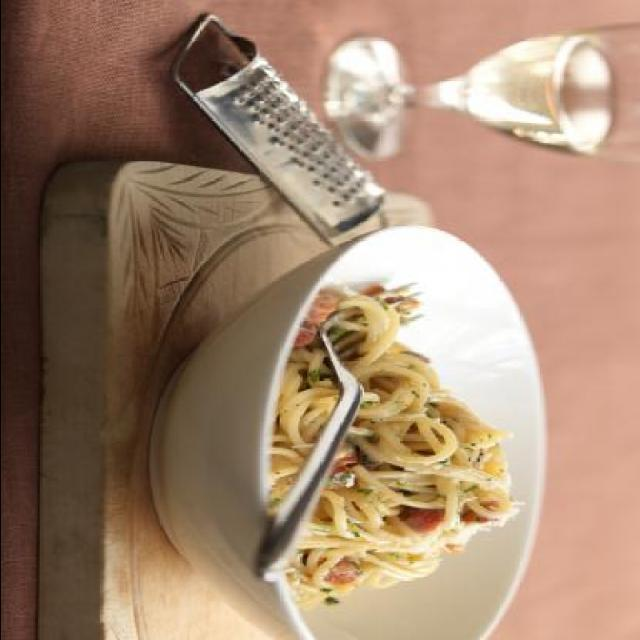Pasta with carbonara sauce: (144, 268, 546, 620)
